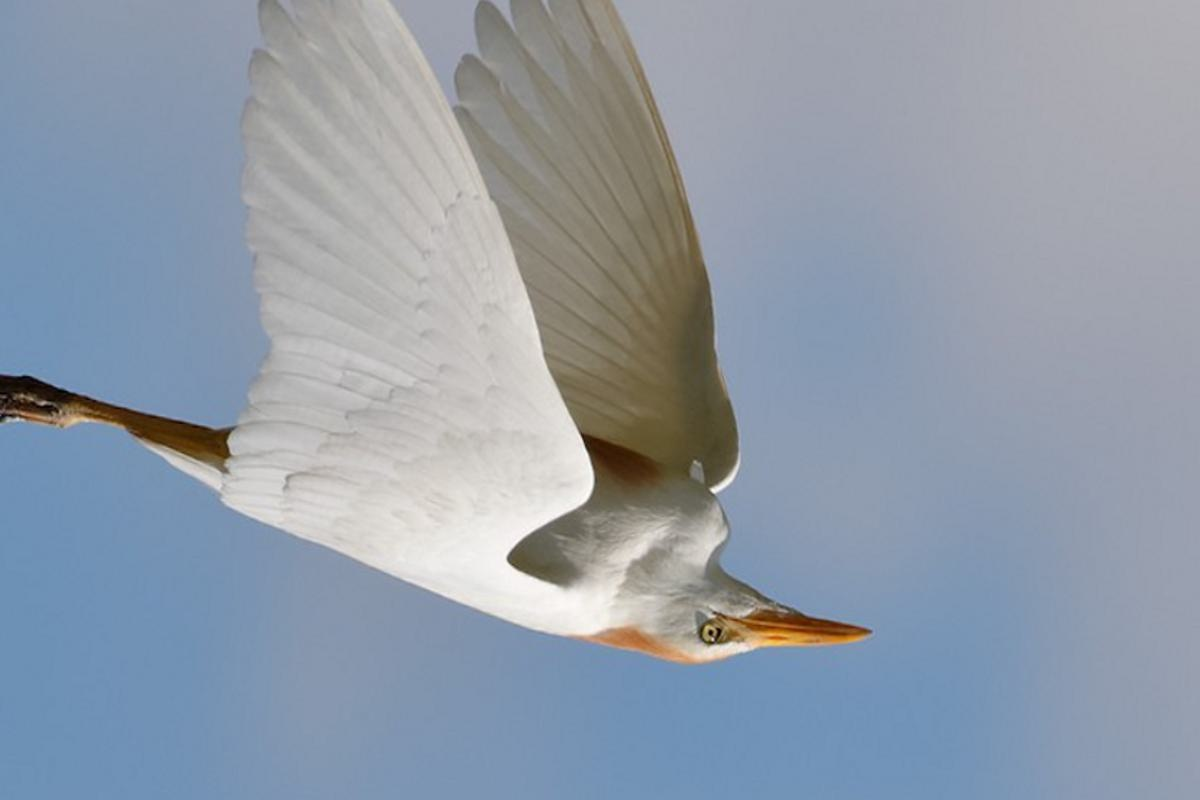egret: (1, 1, 880, 689)
